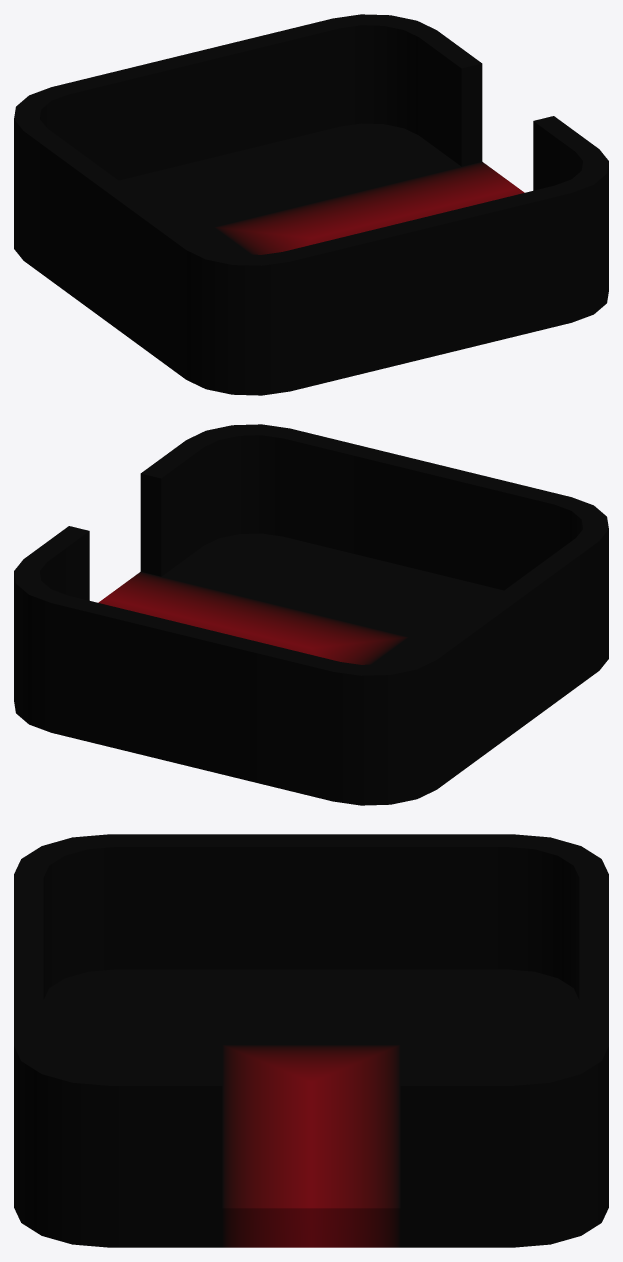
The model's file is Tile_End.fbx.
3 renders of one model, top to bottom at view 1: azimuth 30°, elevation 25°; view 2: azimuth 150°, elevation 25°; view 3: azimuth 270°, elevation 25°, orthographic. The views are drawn at different scales.
Parts seen in each view (by area): view 1: Ex_room; view 2: Ex_room; view 3: Ex_room.
Boxes of the visible parts, x1,y1,x2,y2 form: Ex_room: [14, 14, 608, 395]; Ex_room: [14, 424, 608, 805]; Ex_room: [14, 834, 608, 1247].
Bounding box in the file's own units: 100 × 30 × 100.
